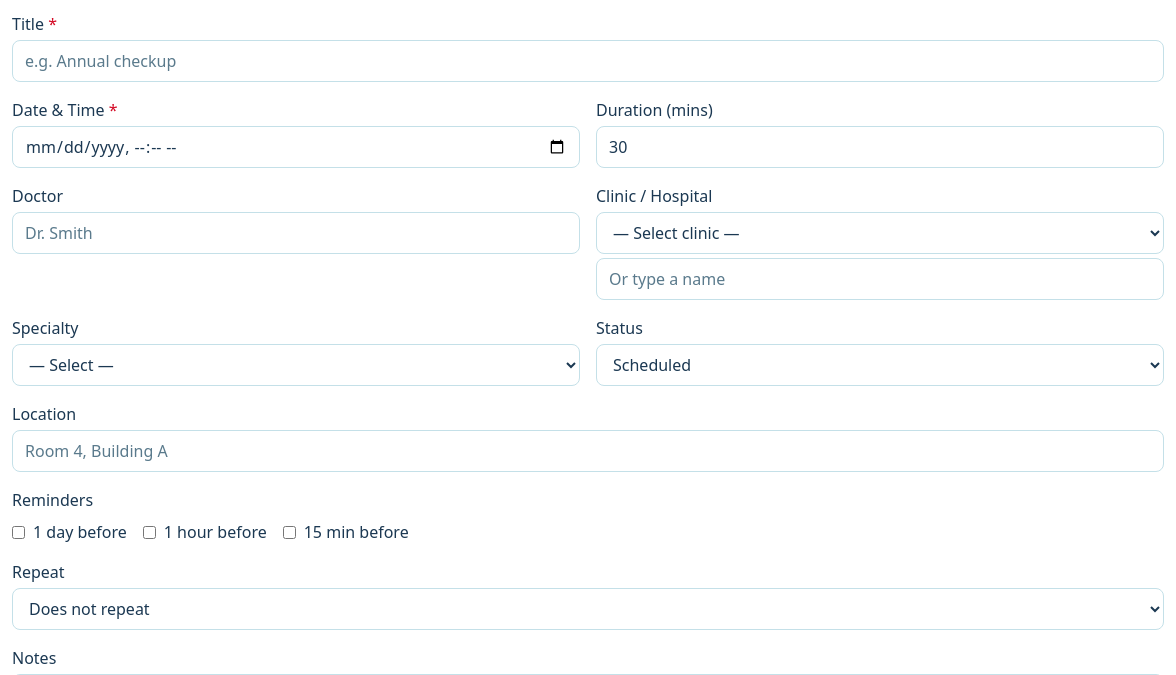
Test: AppointmentForm › Contact Picker › selecting clinic from dropdown sets clinic name text field
The width and height of the screenshot is (1176, 675).
Select "City Hospital" in the dropdown named "select clinic": (880, 233) [596, 212, 1164, 254]
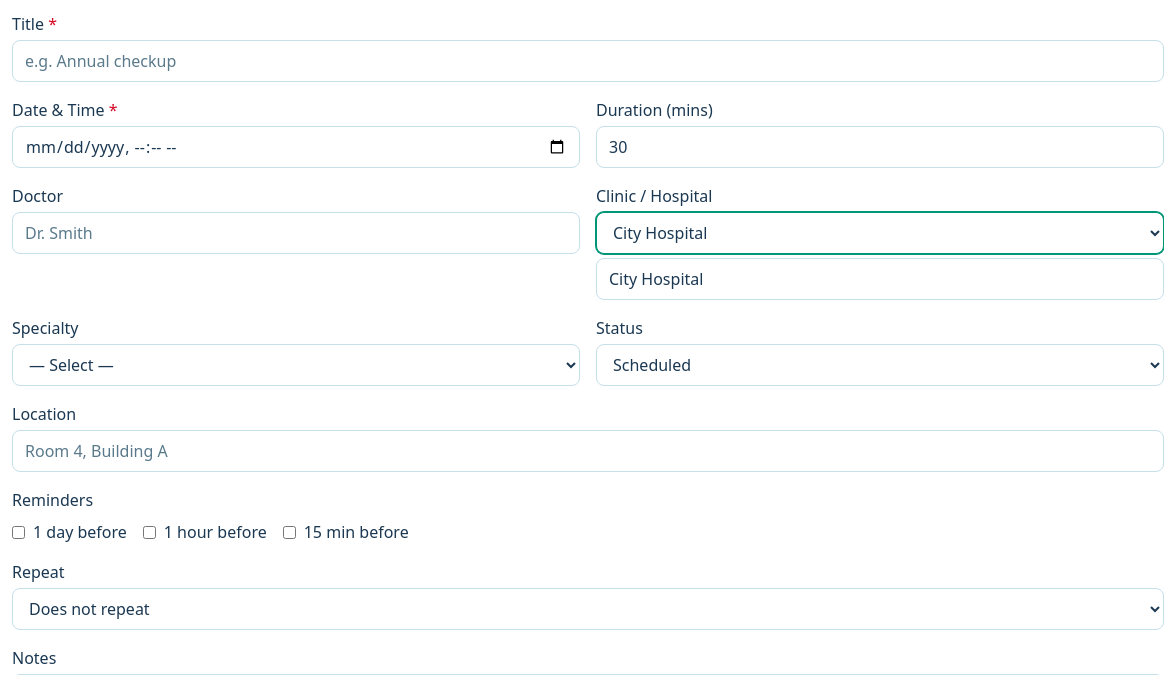
Expected: the field named "clinic name (free text)" holds "City Hospital", [596, 258, 1164, 300]
